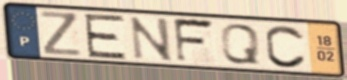C: (264, 23, 309, 70)
E: (82, 13, 129, 61)
F: (171, 17, 218, 65)
N: (127, 15, 175, 63)
Q: (219, 22, 262, 66)
Z: (38, 9, 85, 58)
